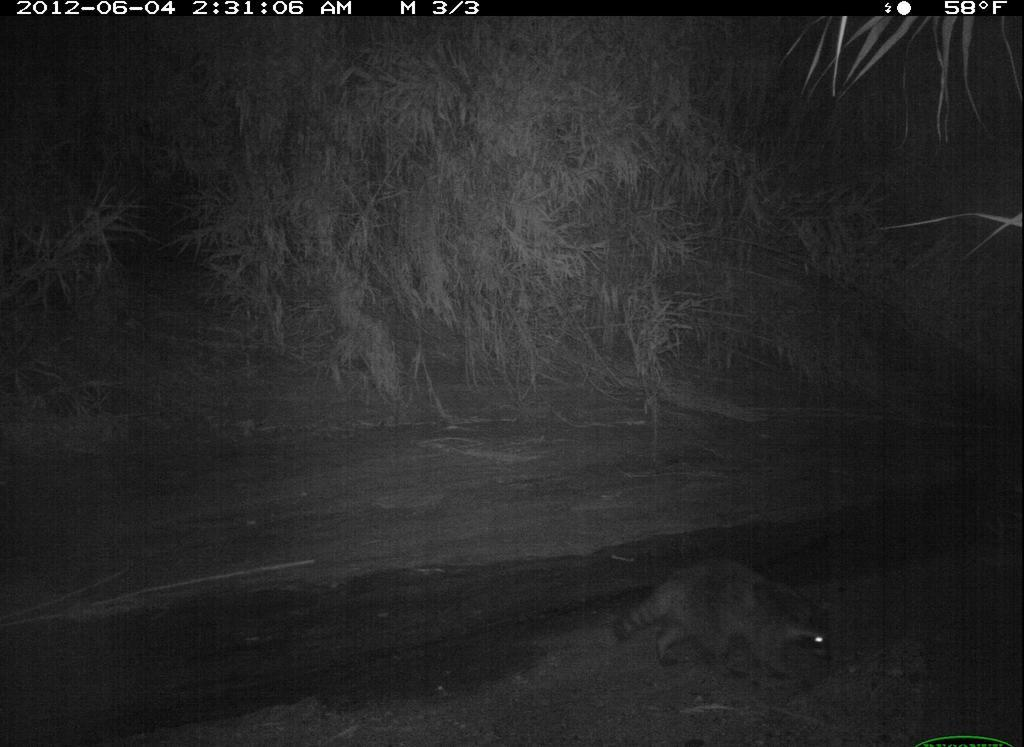raccoon: (611, 552, 840, 692)
